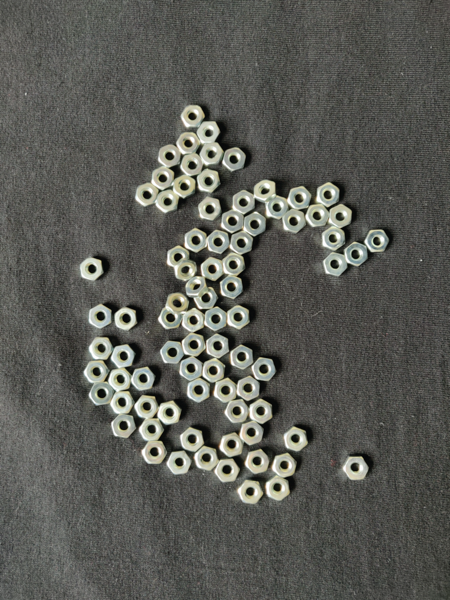nut: (343, 455, 370, 481), (272, 453, 298, 479), (245, 449, 271, 475), (266, 475, 291, 501), (220, 433, 245, 458), (225, 399, 250, 424), (252, 358, 277, 383), (282, 209, 307, 234), (238, 481, 264, 505), (284, 426, 308, 452), (194, 447, 220, 471), (167, 451, 193, 475), (141, 441, 167, 465), (237, 376, 261, 402), (223, 147, 247, 173), (216, 459, 241, 483), (240, 421, 264, 446), (181, 428, 205, 453), (112, 415, 137, 439), (89, 382, 114, 406), (131, 367, 156, 391), (249, 400, 273, 425), (230, 345, 254, 370), (220, 275, 244, 300), (200, 257, 224, 282), (344, 243, 369, 267), (323, 253, 348, 277), (206, 230, 230, 255), (221, 209, 245, 234), (84, 361, 110, 384), (185, 228, 208, 254), (108, 368, 132, 392), (182, 333, 206, 357), (230, 231, 254, 255), (322, 227, 346, 251), (306, 204, 330, 228), (199, 197, 223, 221), (135, 183, 159, 207), (158, 402, 183, 425), (135, 396, 160, 419), (111, 392, 136, 415), (111, 345, 136, 368), (89, 338, 114, 361), (89, 304, 112, 329), (214, 378, 237, 403), (187, 378, 210, 403), (203, 358, 226, 383), (206, 334, 229, 359), (183, 308, 206, 333), (317, 183, 340, 208), (266, 195, 289, 220), (244, 212, 267, 237), (198, 169, 221, 194), (139, 419, 165, 441), (364, 230, 390, 252), (115, 307, 138, 331), (80, 258, 104, 281), (180, 357, 203, 381), (227, 306, 250, 330), (205, 307, 228, 331), (223, 253, 246, 277), (288, 187, 312, 210), (254, 180, 278, 203), (156, 190, 180, 213), (173, 175, 196, 199), (151, 167, 174, 191), (158, 144, 181, 168), (181, 153, 204, 177), (200, 143, 224, 166), (177, 132, 201, 155), (197, 121, 221, 144), (158, 308, 183, 330), (233, 190, 255, 215), (161, 341, 184, 364), (174, 258, 197, 281), (167, 245, 190, 268), (330, 205, 352, 229), (181, 105, 205, 127), (194, 288, 219, 309), (166, 293, 189, 315), (187, 277, 209, 298)
